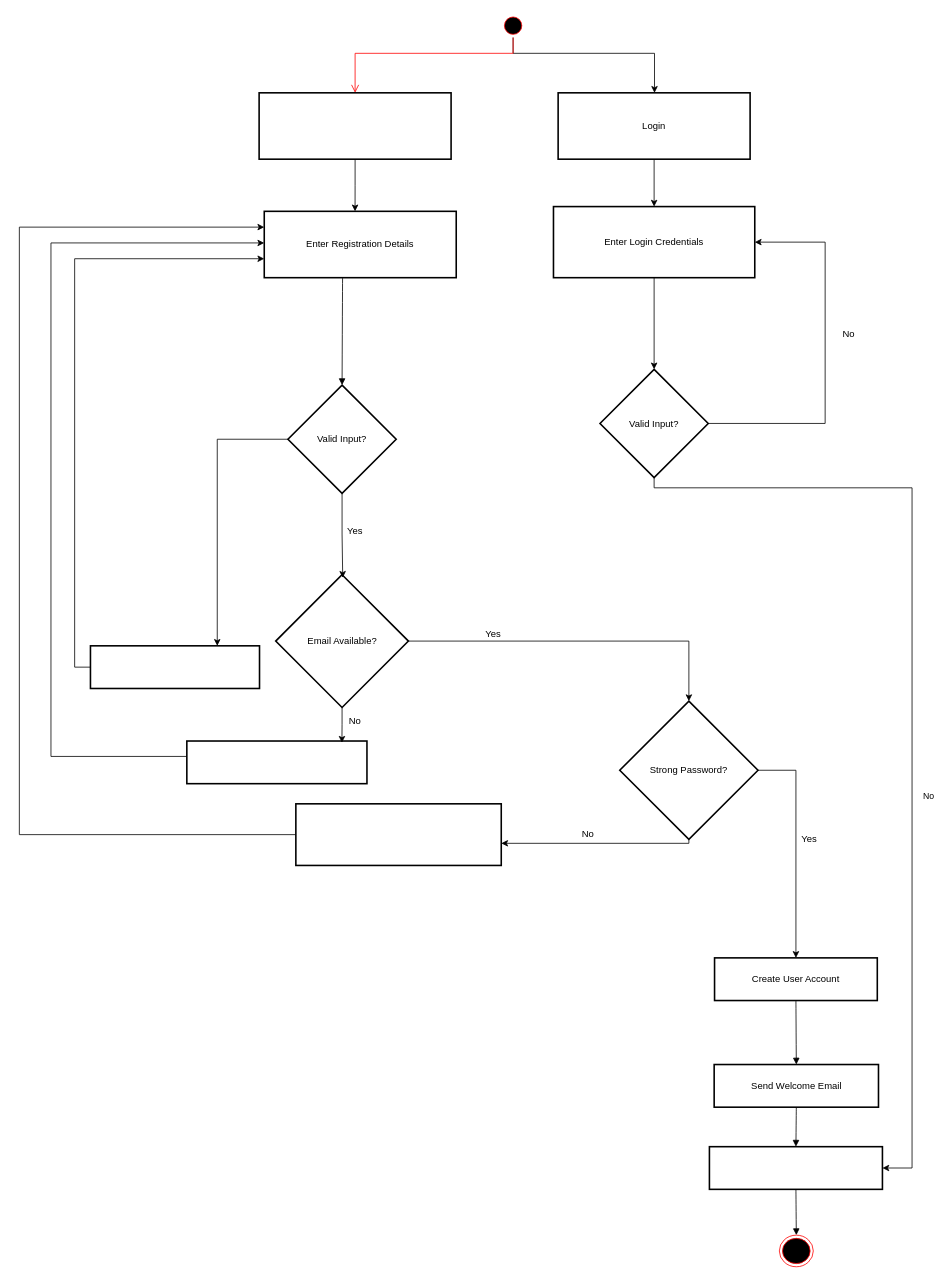
Some shapes in this 947 by 1281 pixel diagram are drawn without their labels. Here are the shapes that lost their labels. From the top down, the box of each, then its label:
(258, 92, 451, 160): Register
(89, 645, 260, 689): Show Validation Error
(186, 740, 367, 784): Show Email Taken Error
(295, 803, 502, 866): Show Password Requirements
(708, 1146, 883, 1190): Show Success Message
